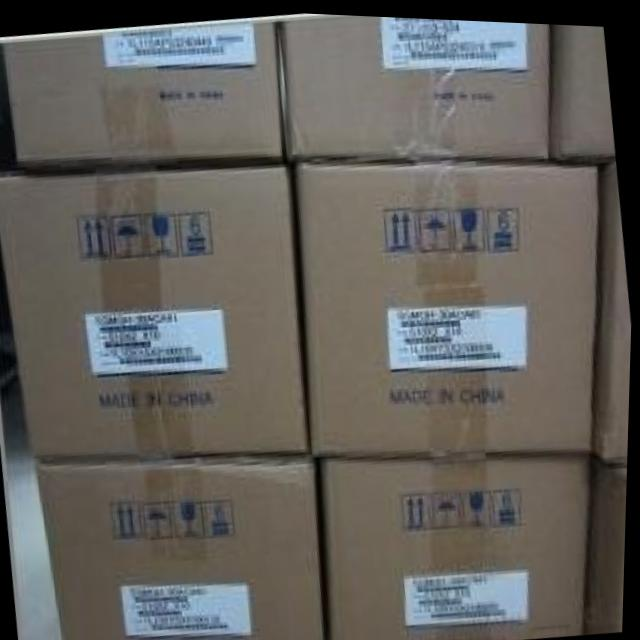box: (0, 163, 312, 457), (297, 160, 597, 454), (39, 453, 325, 640), (322, 448, 592, 640), (2, 18, 284, 169), (278, 12, 551, 156), (593, 161, 633, 456), (551, 19, 615, 158), (587, 452, 630, 625)
